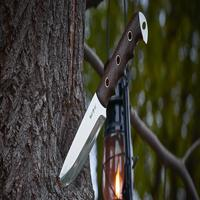knife: (52, 10, 146, 194)
